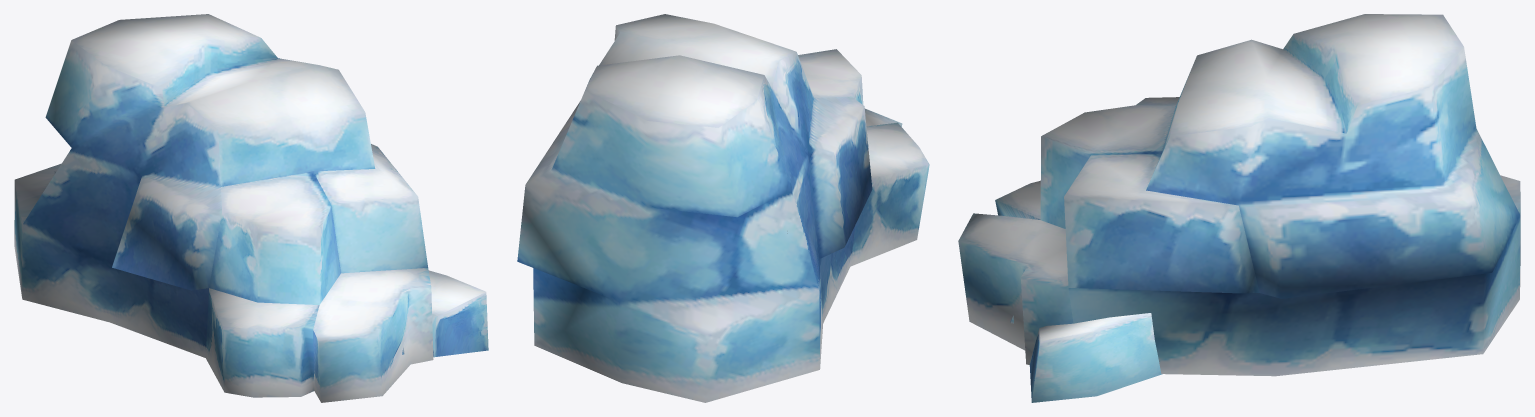
The model's file is SM_stoneD_04.fbx.
The picture shows the model from 3 angles, left to right: view 1: azimuth 30°, elevation 25°; view 2: azimuth 150°, elevation 25°; view 3: azimuth 270°, elevation 25°; orthographic projection. The views are drawn at different scales.
Visible parts, largest first — view 1: SM_stoneD_04; view 2: SM_stoneD_04; view 3: SM_stoneD_04.
Boxes of the visible parts, <box> form: SM_stoneD_04: <box>14,14,488,402</box>; SM_stoneD_04: <box>517,14,929,402</box>; SM_stoneD_04: <box>958,14,1520,402</box>.
Size of the model in its own units: 4.67 by 3.57 by 6.62.
